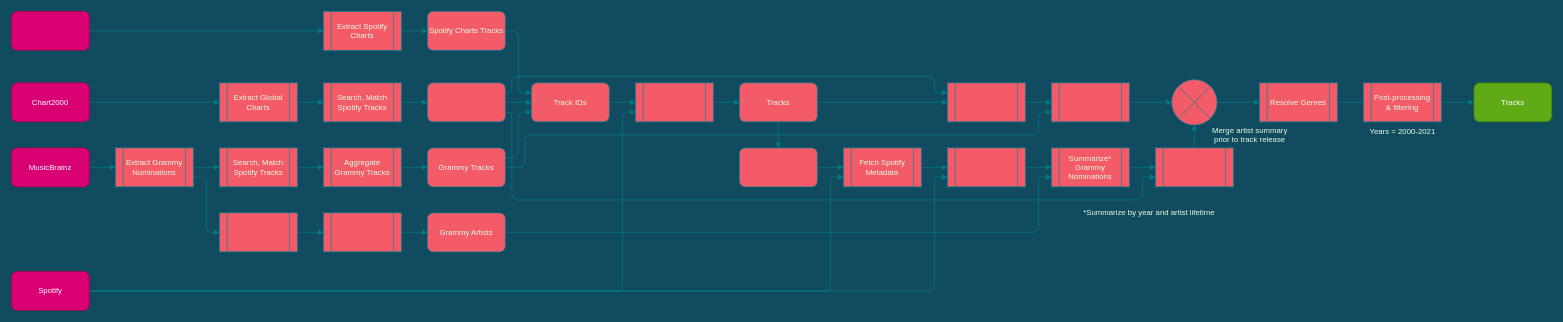
Image size: 1563x322. Some labels were removed from this diagram. The box of each missing label's shape, as (x1, y1, x2, y2) in pixels:
Aggreagate Grammy Artists: (323, 212, 401, 252)
Aggregate Charts: (947, 82, 1025, 122)
Aggregate Grammy Nominations: (1051, 82, 1129, 122)
Artists: (739, 147, 817, 187)
Extract Track Metadata, Audio Features: (635, 82, 713, 122)
Global Chart Tracks: (427, 82, 505, 122)
Search, Match Spotify Artists: (219, 212, 297, 252)
Spotify Charts: (11, 11, 89, 50)
Summarize* Charts: (1155, 147, 1233, 187)
Summarize* Releases: (947, 147, 1025, 187)
